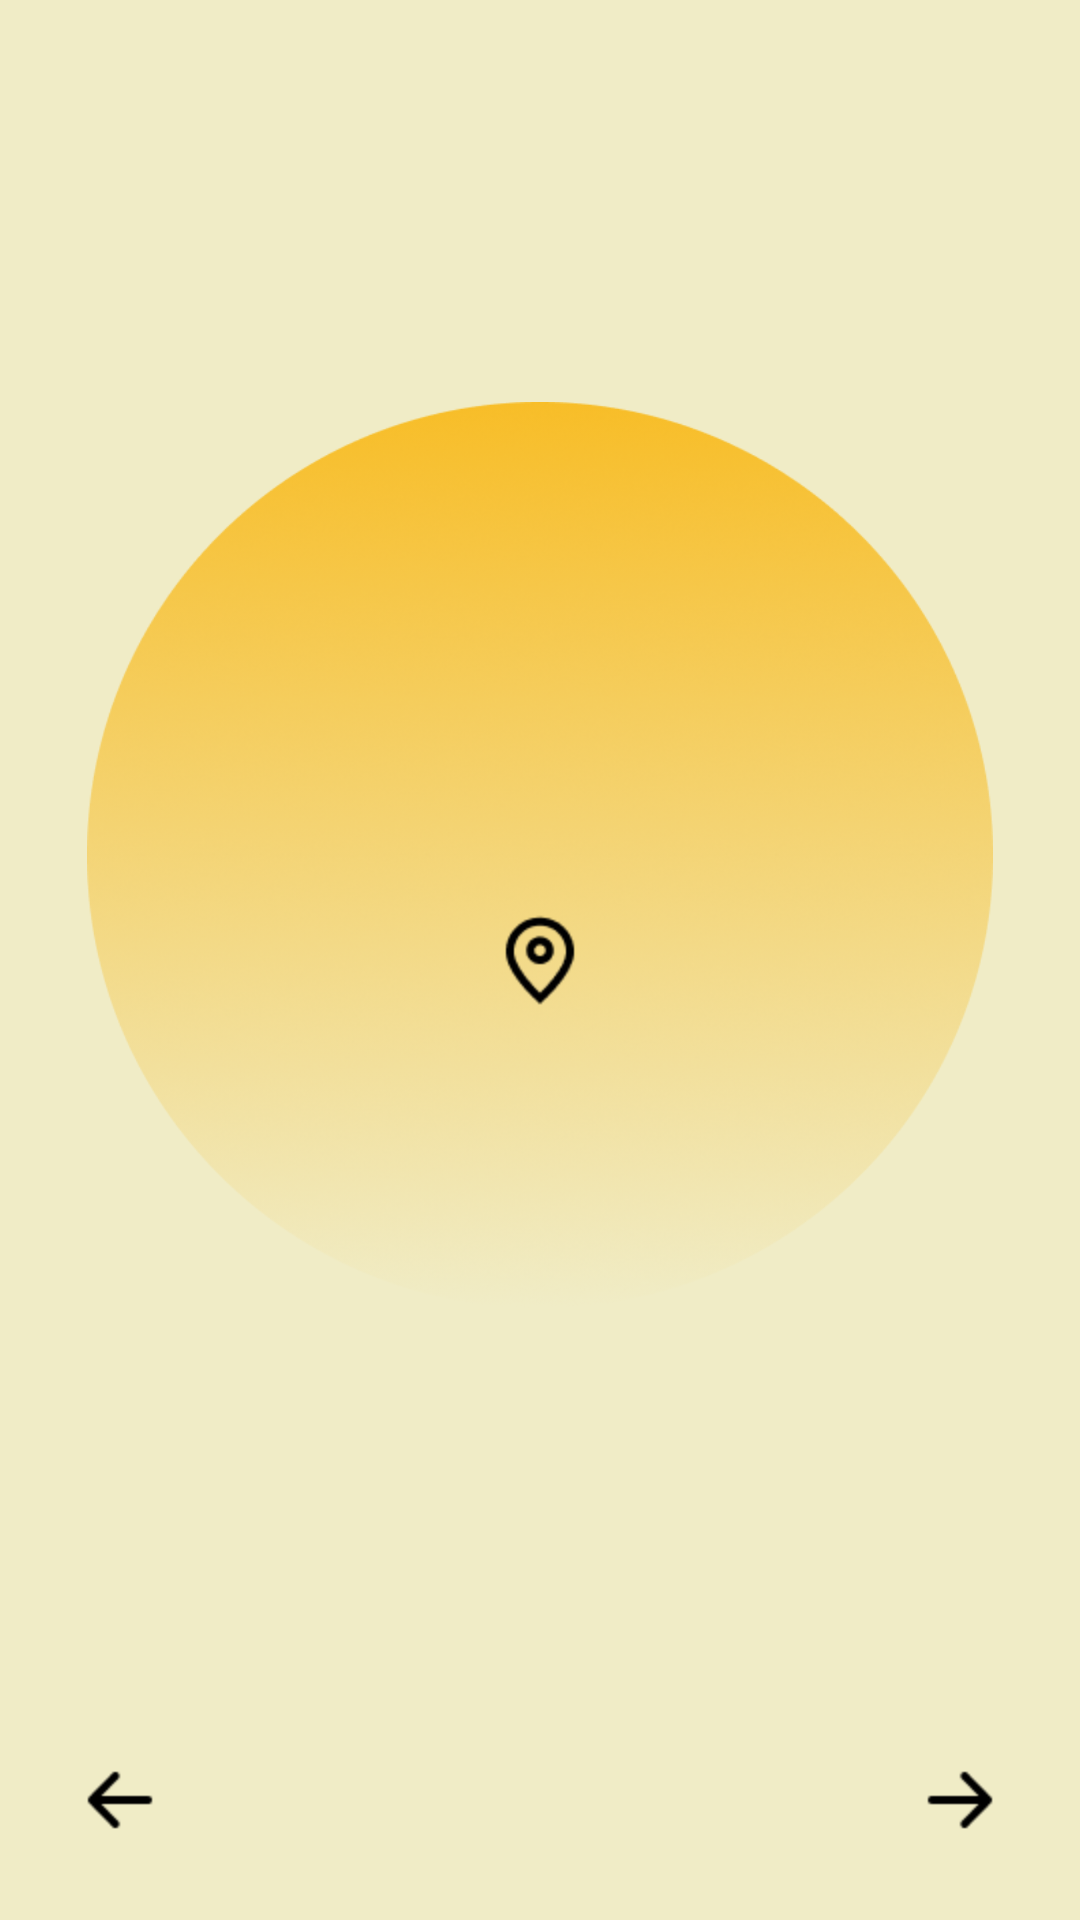

Point at icon controls on the screen. Image size 1080w x 1920h, points as point (x, y).
arrow left: point (120, 1800)
arrow right: point (960, 1800)
location: point (540, 960)
